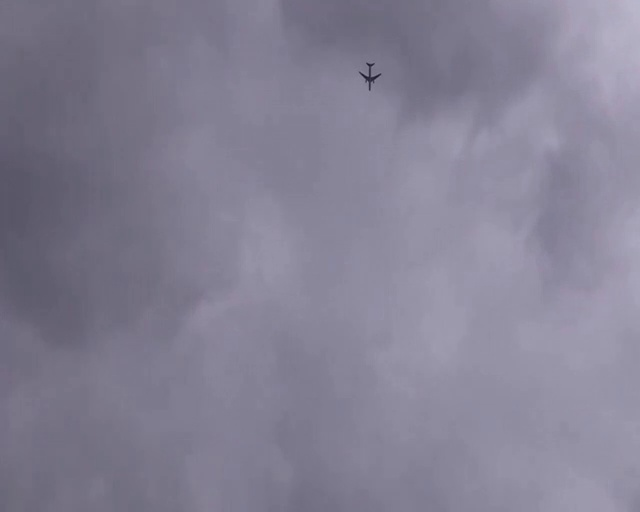AIRPLANE: (358, 61, 382, 90)
